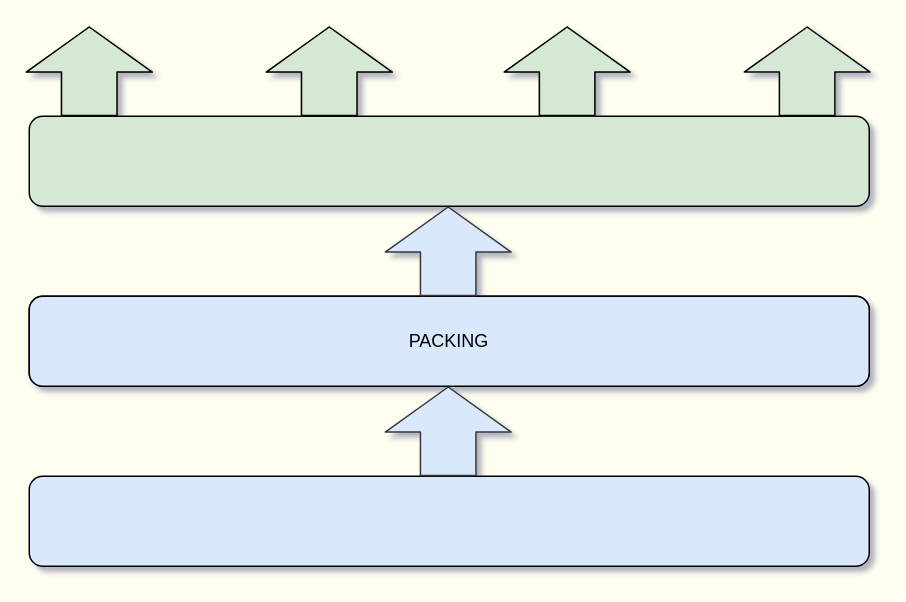
The diagram is 906 pixels wide and 602 high, and some of its shapes have lost their labels. The centre of each missing label's shape, as x and y in pixels:
"DOCKS" goes at (x=448, y=160).
"PICKING" goes at (x=448, y=520).
